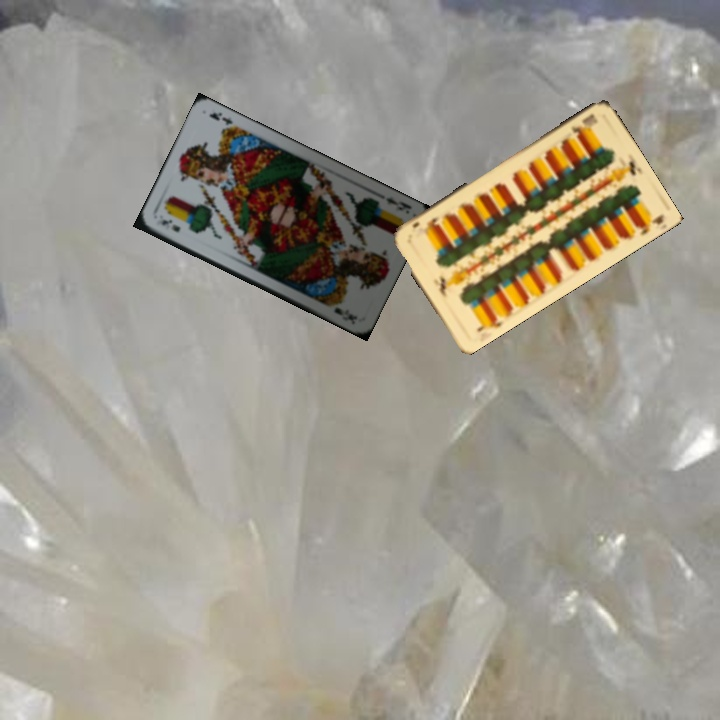E10: (567, 110, 600, 139), (473, 311, 506, 334)
EK: (382, 192, 414, 214), (157, 215, 183, 235)
